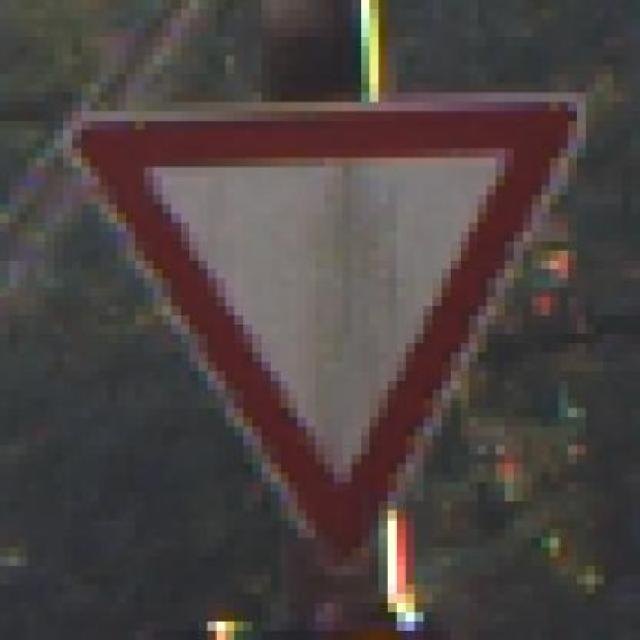Give Way: (45, 83, 604, 585)
